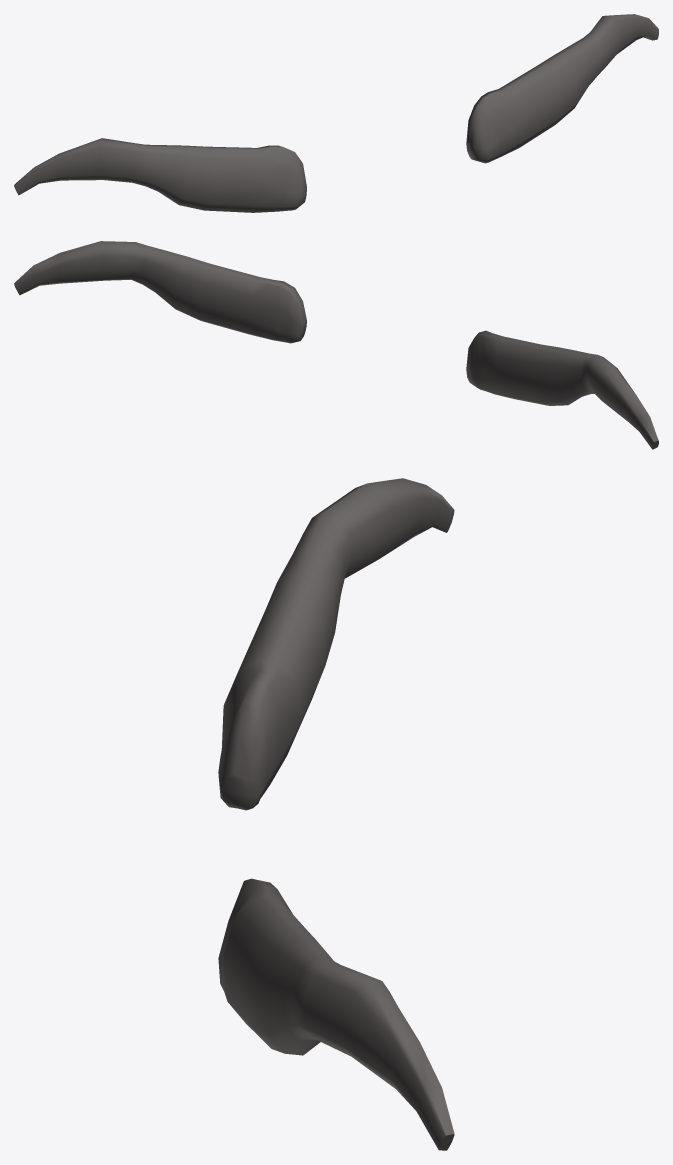
Rendered from Eyebrows_07_04.fbx.
The picture shows the model from 3 angles, top to bottom: view 1: azimuth 30°, elevation 25°; view 2: azimuth 150°, elevation 25°; view 3: azimuth 270°, elevation 25°; orthographic projection. The views are drawn at different scales.
Parts seen in each view (by area): view 1: Eyebrows_07_04; view 2: Eyebrows_07_04; view 3: Eyebrows_07_04.
Part boxes in pixels (x1,y1,x2,y2): Eyebrows_07_04: (14, 14, 658, 212); Eyebrows_07_04: (14, 241, 658, 449); Eyebrows_07_04: (218, 478, 454, 1150).
Bounding box in the file's own units: 19.46 × 2.46 × 3.09.
